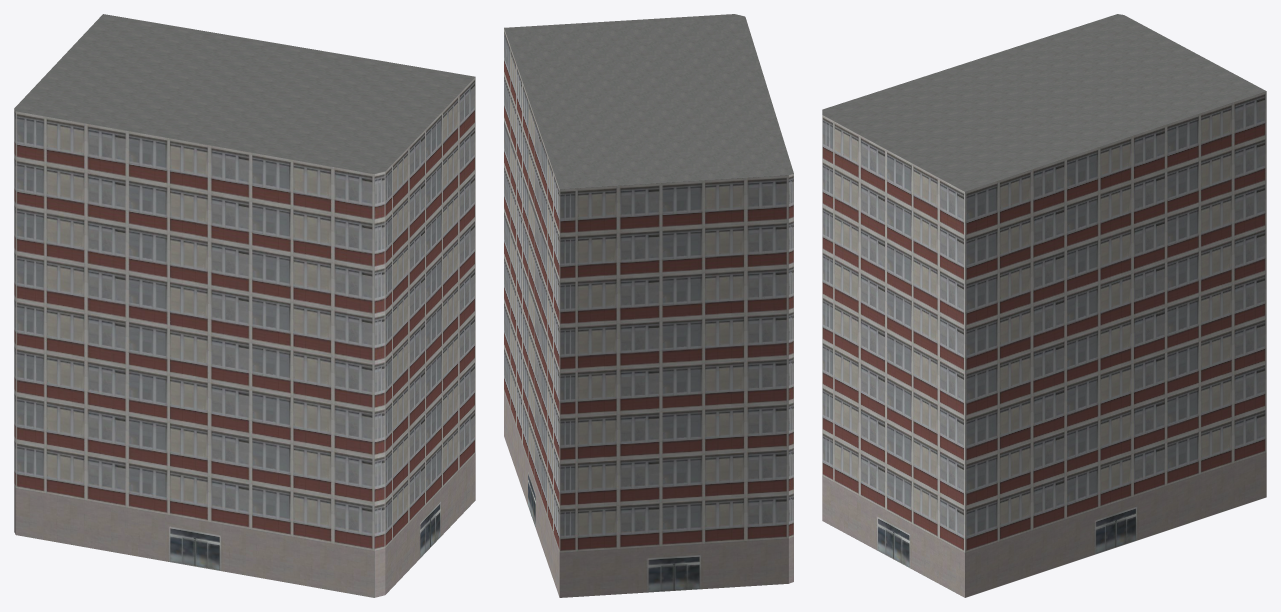
The picture shows the model from 3 angles, left to right: view 1: azimuth 30°, elevation 25°; view 2: azimuth 150°, elevation 25°; view 3: azimuth 270°, elevation 25°; orthographic projection. The views are drawn at different scales.
Visible parts, largest first — view 1: BuildingMaster_1983193842674463722800000000_0, BuildingMaster_1983193842674463722800000000_1; view 2: BuildingMaster_1983193842674463722800000000_0, BuildingMaster_1983193842674463722800000000_1; view 3: BuildingMaster_1983193842674463722800000000_0, BuildingMaster_1983193842674463722800000000_1.
Boxes of the visible parts, left/top/right/bottom form: BuildingMaster_1983193842674463722800000000_0: left=14, top=77, right=475, bottom=597; BuildingMaster_1983193842674463722800000000_1: left=14, top=14, right=474, bottom=173; BuildingMaster_1983193842674463722800000000_0: left=504, top=28, right=793, bottom=597; BuildingMaster_1983193842674463722800000000_1: left=504, top=14, right=793, bottom=189; BuildingMaster_1983193842674463722800000000_0: left=822, top=91, right=1266, bottom=597; BuildingMaster_1983193842674463722800000000_1: left=822, top=14, right=1266, bottom=191.
Size of the model in its own units: 29.58 by 31.5 by 31.24.
2 materials, 2 textured.
